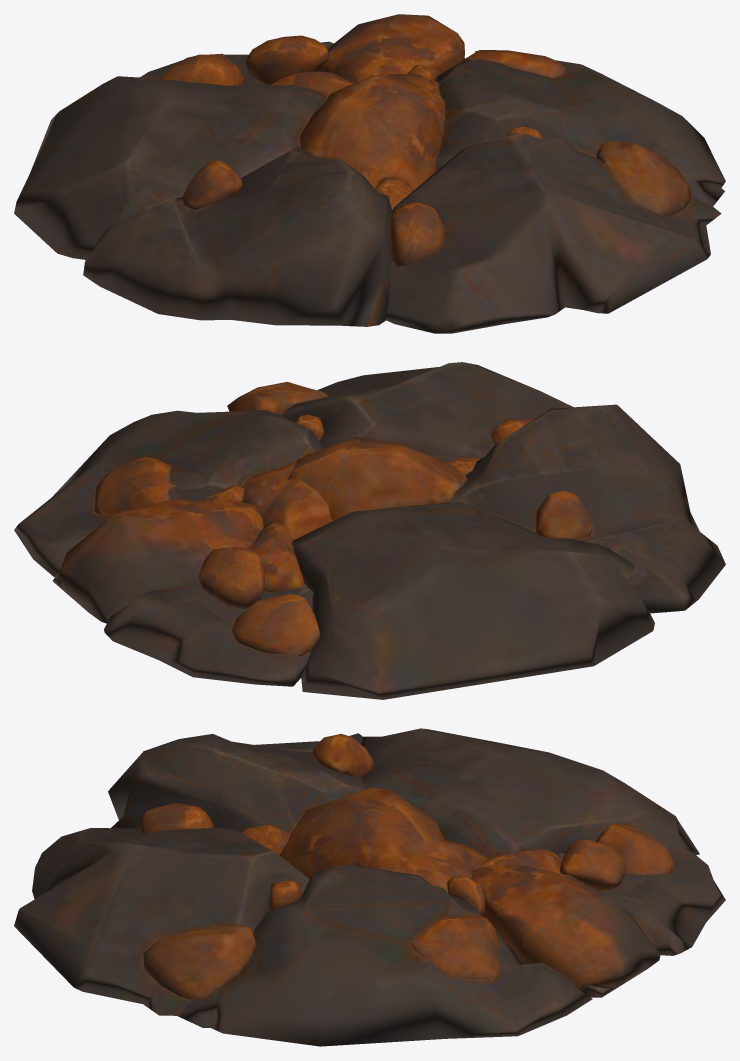
File: filon_fer.glb
3 renders of one model, top to bottom at view 1: azimuth 30°, elevation 25°; view 2: azimuth 150°, elevation 25°; view 3: azimuth 270°, elevation 25°, orthographic.
Size of the model in its own units: 0.9131 by 0.1543 by 0.9434.
1 material, 1 textured.
